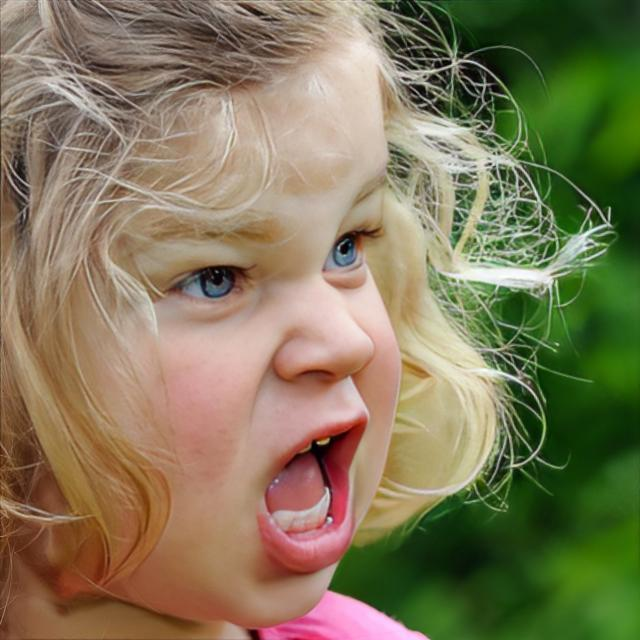anger: (74, 77, 404, 614)
